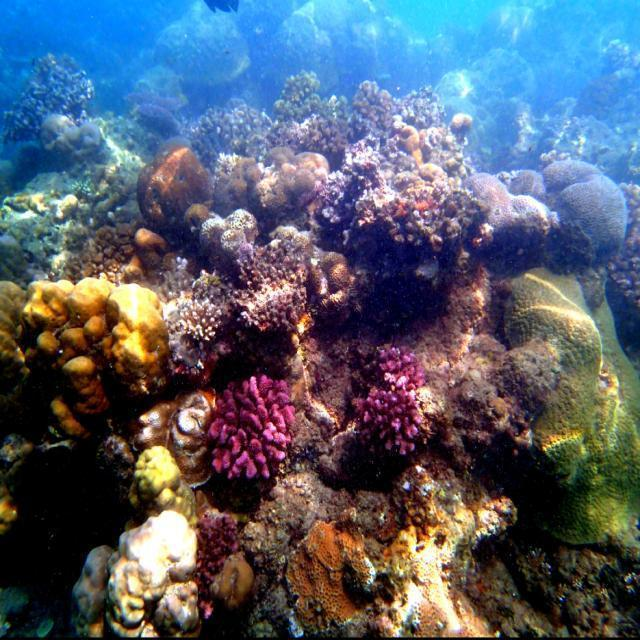Healthy Coral: (31, 257, 167, 446), (201, 368, 308, 506), (361, 336, 444, 479), (294, 514, 383, 633), (192, 514, 252, 591)
